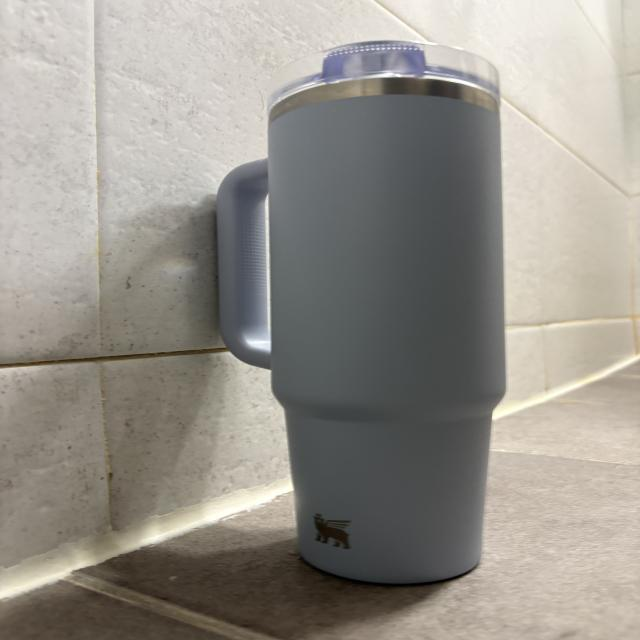waterbottle: (215, 39, 509, 582)
